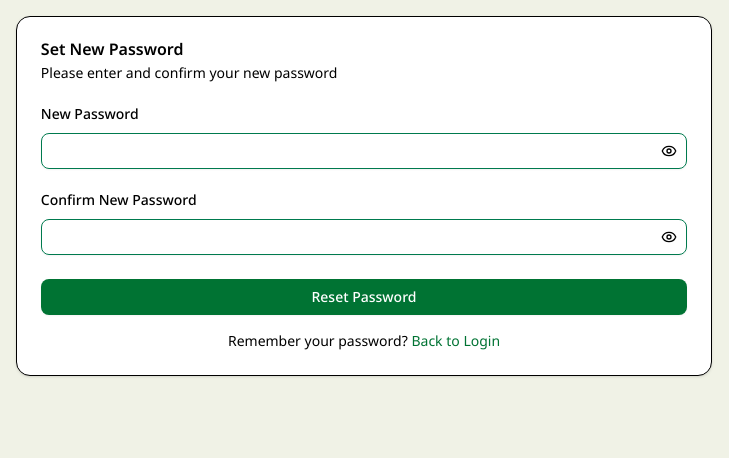
Test case: SetNewPassword › shows validation errors for empty fields
Step 1. Click the button "Reset Password" → x=364, y=297, box [41, 279, 687, 315]
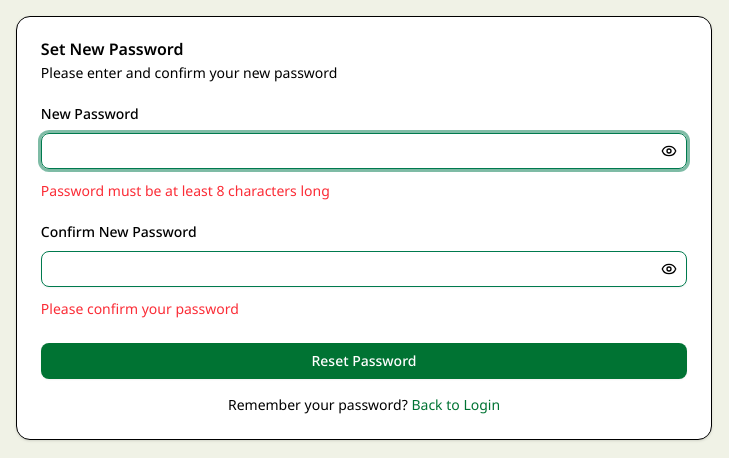
Result: the text "Password must be at least 8 characters long" is shown at [41, 182, 330, 200]
Result: the text "Please confirm your password" is shown at [41, 300, 239, 318]
